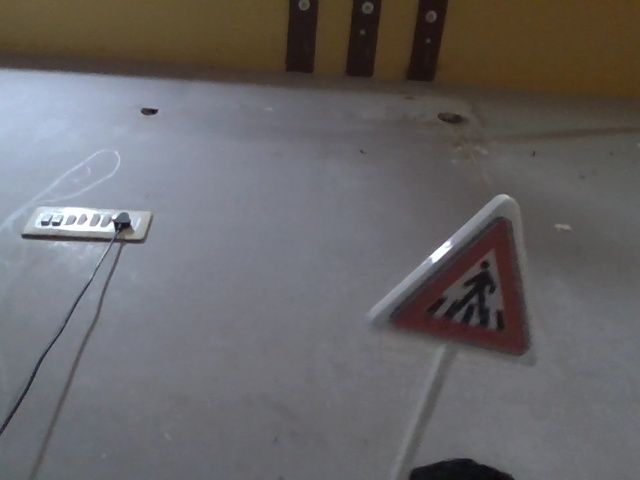crossing: (378, 179, 525, 370)
